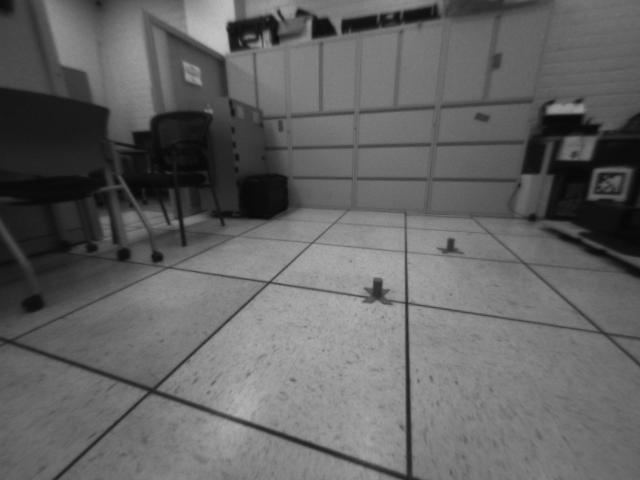X: (362, 276, 394, 306), (436, 236, 465, 256)
